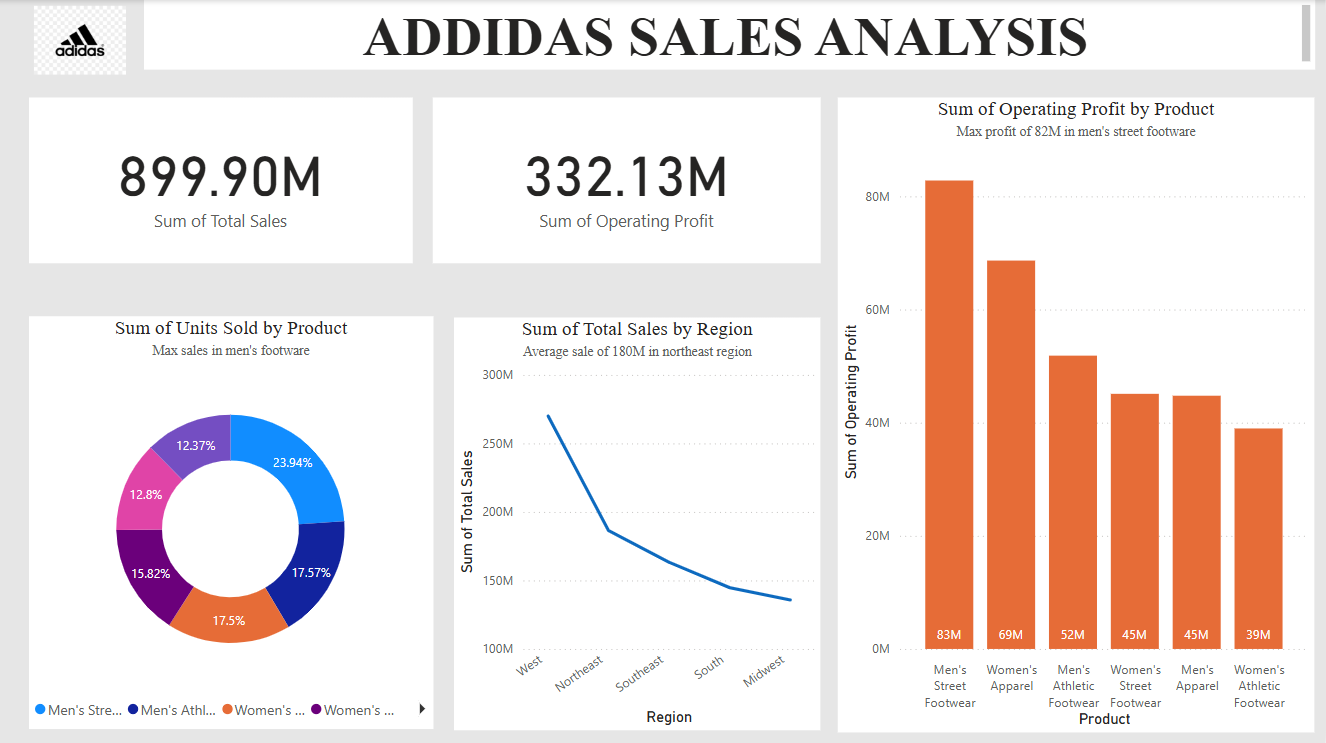

The dashboard page shown, as its layout file describes it:
{"tool":"powerbi","page":{"name":"Page 1","canvas":[1280,720],"ordinal":0},"visuals":[{"type":"columnChart","fields":{"Category":["Adidas_data.Product"],"Y":["Sum(Adidas_data.Operating Profit)"]},"box":[810,94.3,460,612.9],"z":0},{"type":"donutChart","title":"Sum of Units Sold by Product","fields":{"Category":["Adidas_data.Product"],"Y":["Sum(Adidas_data.Units Sold)"]},"box":[28.6,305.7,390,398.6],"z":1000},{"type":"lineChart","fields":{"Category":["Adidas_data.Region"],"Y":["Sum(Adidas_data.Total Sales)"]},"box":[438.8,306.2,353.8,398.8],"z":2000},{"type":"textbox","box":[139.9,0,1130.4,67.6],"z":3000},{"type":"card","fields":{"Values":["Sum(Adidas_data.Total Sales)"]},"box":[28.6,94.3,370,160],"z":4000},{"type":"card","fields":{"Values":["Sum(Adidas_data.Operating Profit)"]},"box":[418.6,94.3,374.3,160],"z":5000},{"type":"image","box":[29,0,98.9,77.2],"z":5001}]}

Visuals, with their boxes in screenshot pixels (x1, y1, x2, y2), scaled from the page's 1280x720 canvas onto the 1326x743 screenshot:
columnChart - Adidas_data.Product x Sum(Adidas_data.Operating Profit): 839/97/1316/730
"Sum of Units Sold by Product" donutChart: 30/315/434/727
lineChart - Adidas_data.Region x Sum(Adidas_data.Total Sales): 455/316/821/728
textbox: 145/0/1316/70
card - Sum(Adidas_data.Total Sales): 30/97/413/262
card - Sum(Adidas_data.Operating Profit): 434/97/821/262
image: 30/0/132/80
